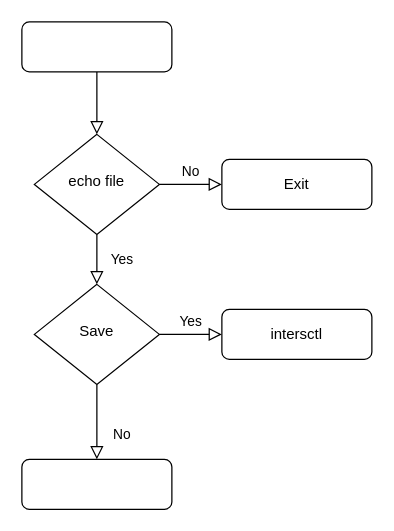
Image size: 394x531. Some labels were removed from this diagram. The centre of each missing label's shape, as x and y in pixels:
"Permission Denied" goes at point (96, 483).
"sudo internsctl" goes at point (96, 46).
